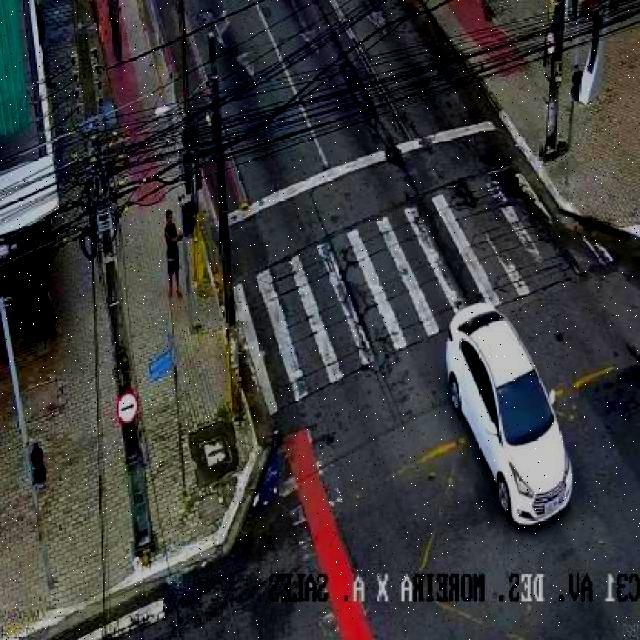Car: (422, 280, 594, 546)
